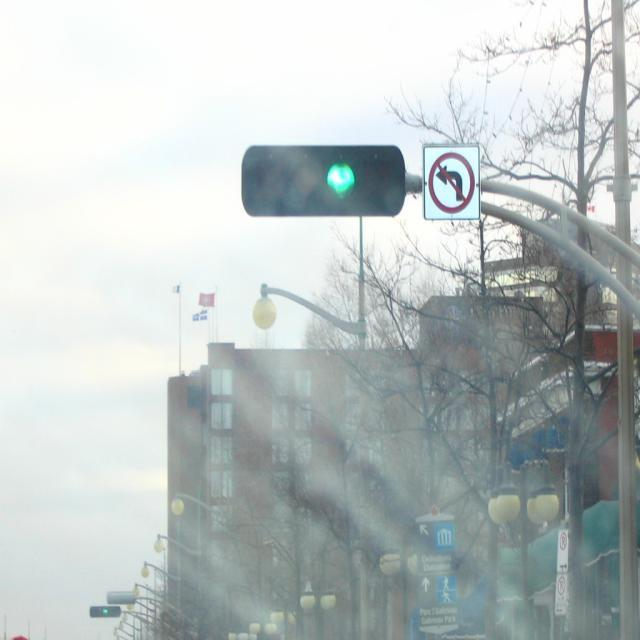road_sign: (424, 144, 482, 220)
traffic light: (240, 144, 404, 216), (90, 605, 123, 618), (107, 591, 137, 602)
